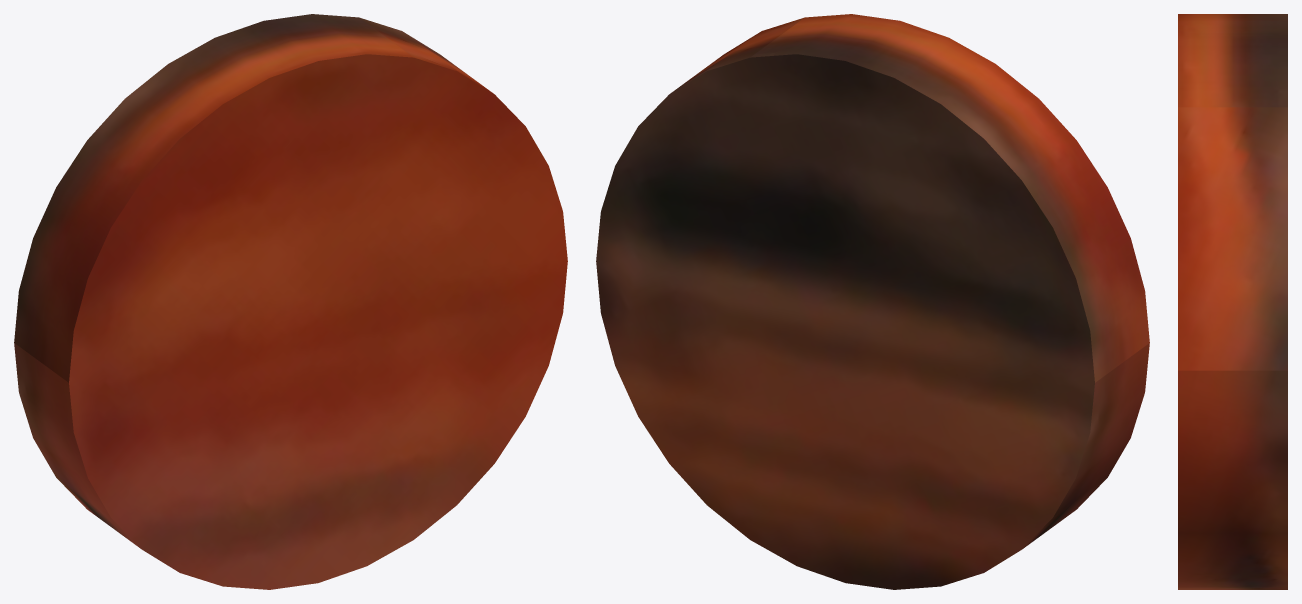
Rendered from start_button_1__button_plunger.glb.
3 views of the same model, side by side, from view 1: azimuth 30°, elevation 25°; view 2: azimuth 150°, elevation 25°; view 3: azimuth 270°, elevation 25° (orthographic).
Parts seen in each view (by area): view 1: geometry_0; view 2: geometry_0; view 3: geometry_0.
Boxes of the visible parts, x1,y1,x2,y2 form: geometry_0: (14, 14, 567, 589); geometry_0: (596, 14, 1149, 589); geometry_0: (1178, 14, 1287, 589).
Bounding box in the file's own units: 0.042 × 0.042 × 0.008.
Materials: 1 (1 with a texture image).
